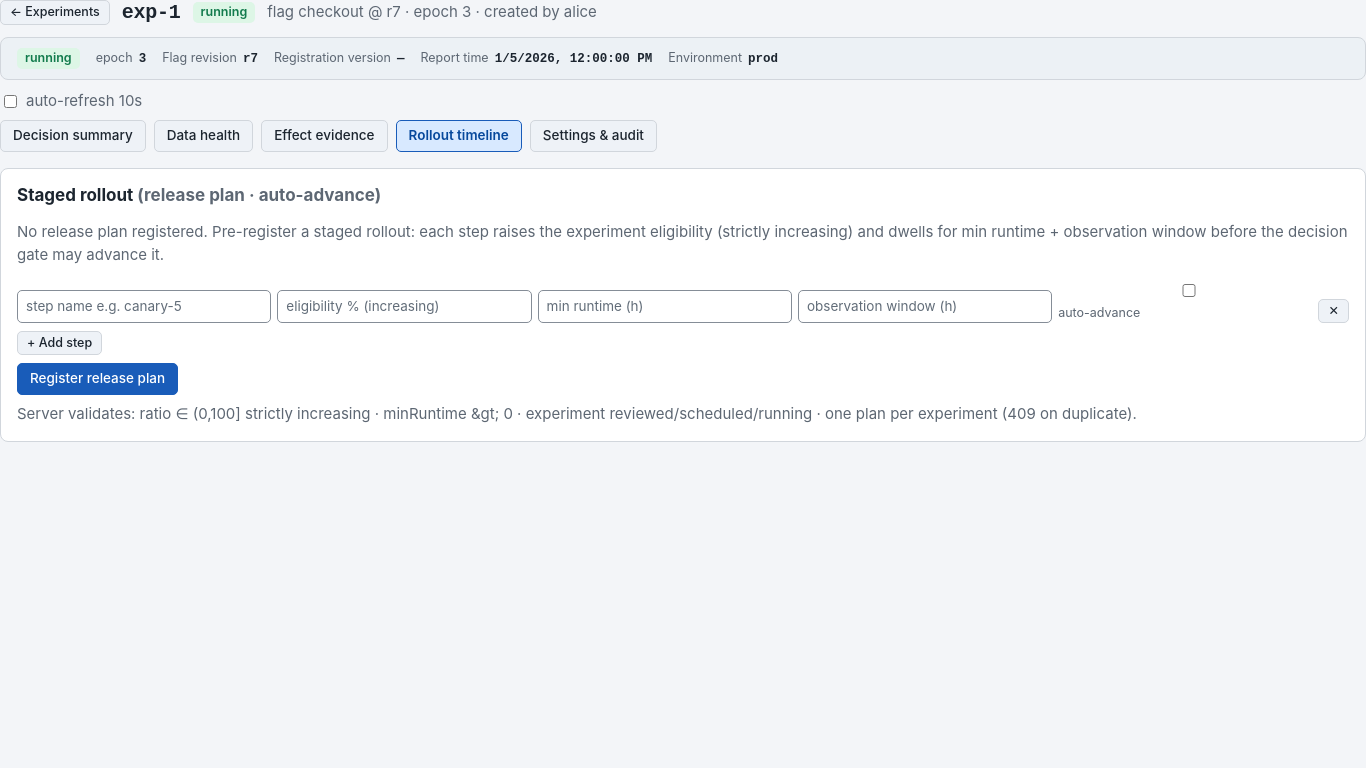
Test: RolloutBlock › renders the no-plan create editor and posts the approval-wrapped create body
Expected: the text "No release plan registered" is shown, [17, 222, 1348, 264]
Expected: the element showing "auto-advance ✕" is shown, [17, 281, 1349, 323]
# Fill the single step row, then register.
Type "canary" into the field labelled "step name" at (144, 306), box [17, 290, 271, 323]
Type "5" into the number field named "Eligibility (%)" at (404, 306), box [277, 290, 532, 323]
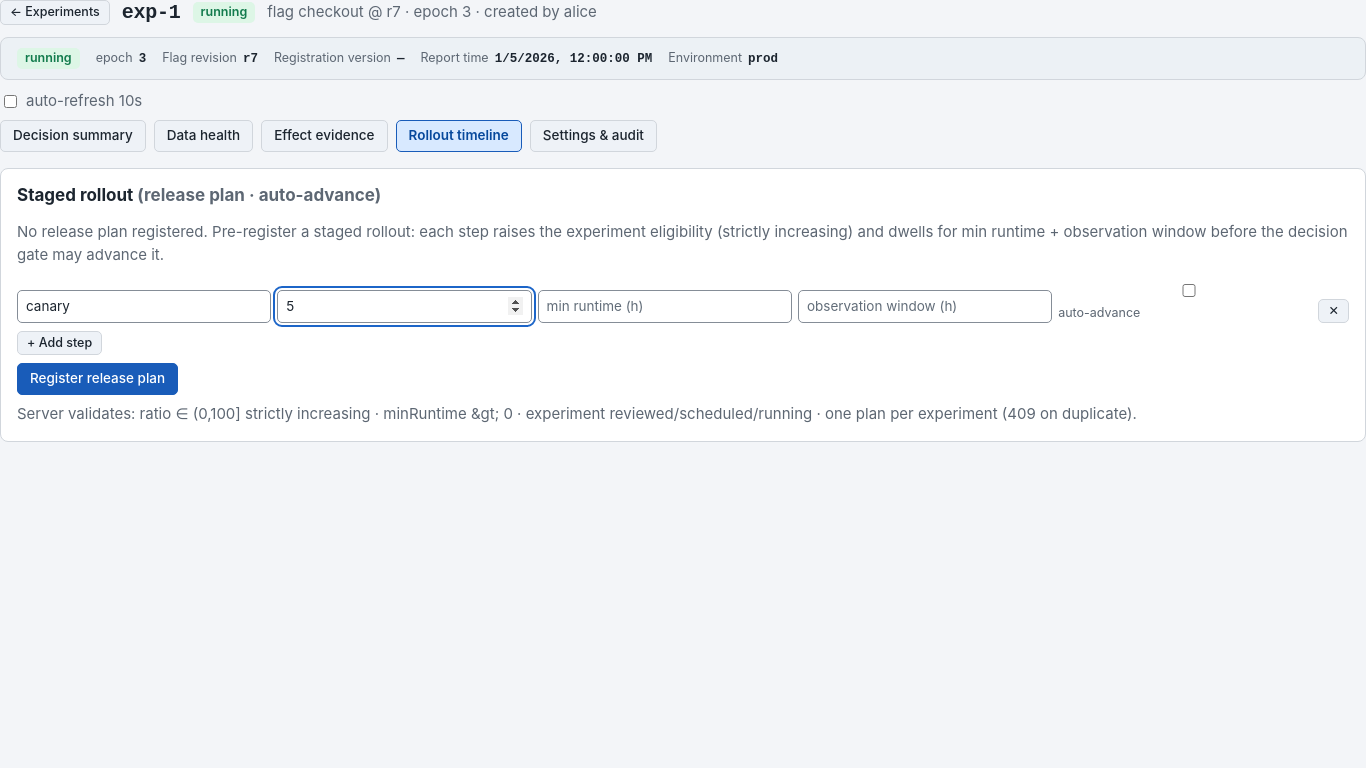
Type "2" into the number field named "Min runtime (hours)" at (665, 306), box [538, 290, 792, 323]
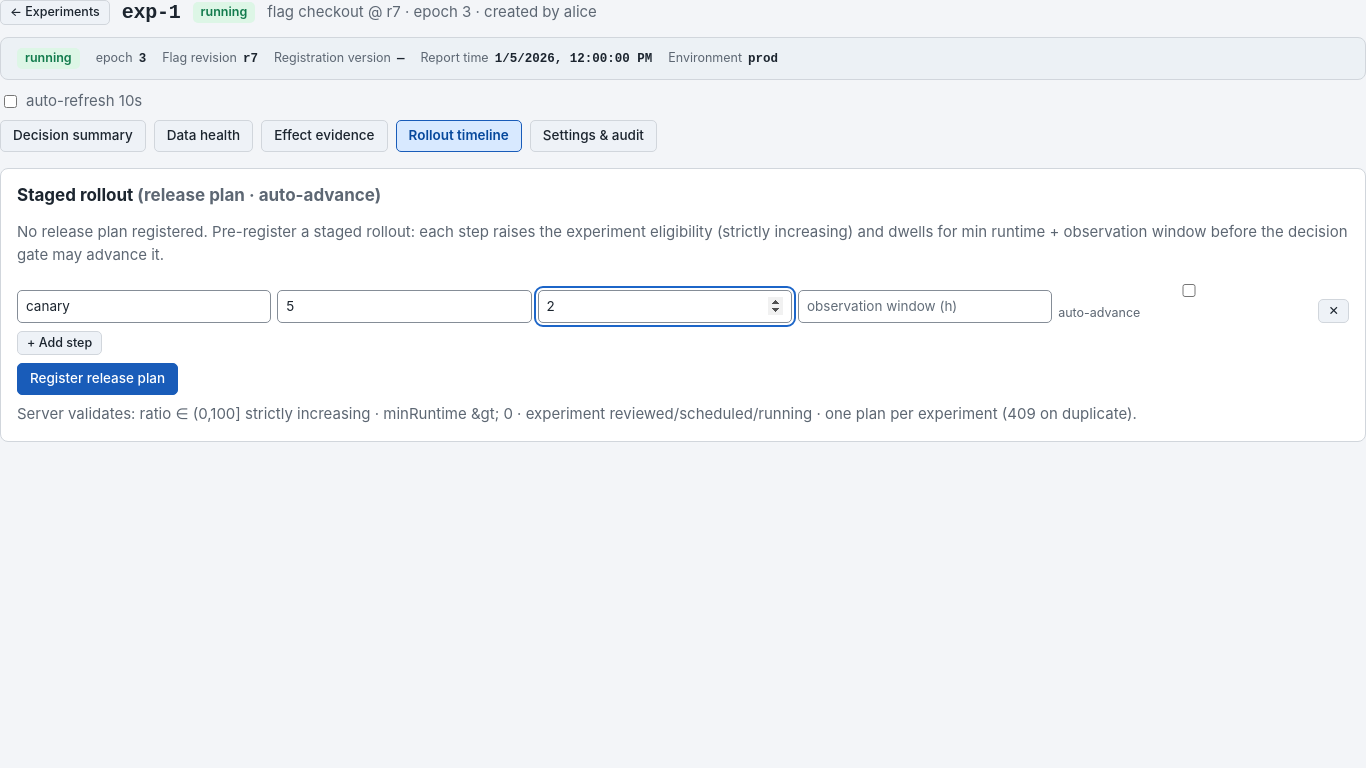
Type "1" into the number field named "Observation window (hours)" at (925, 306), box [798, 290, 1052, 323]
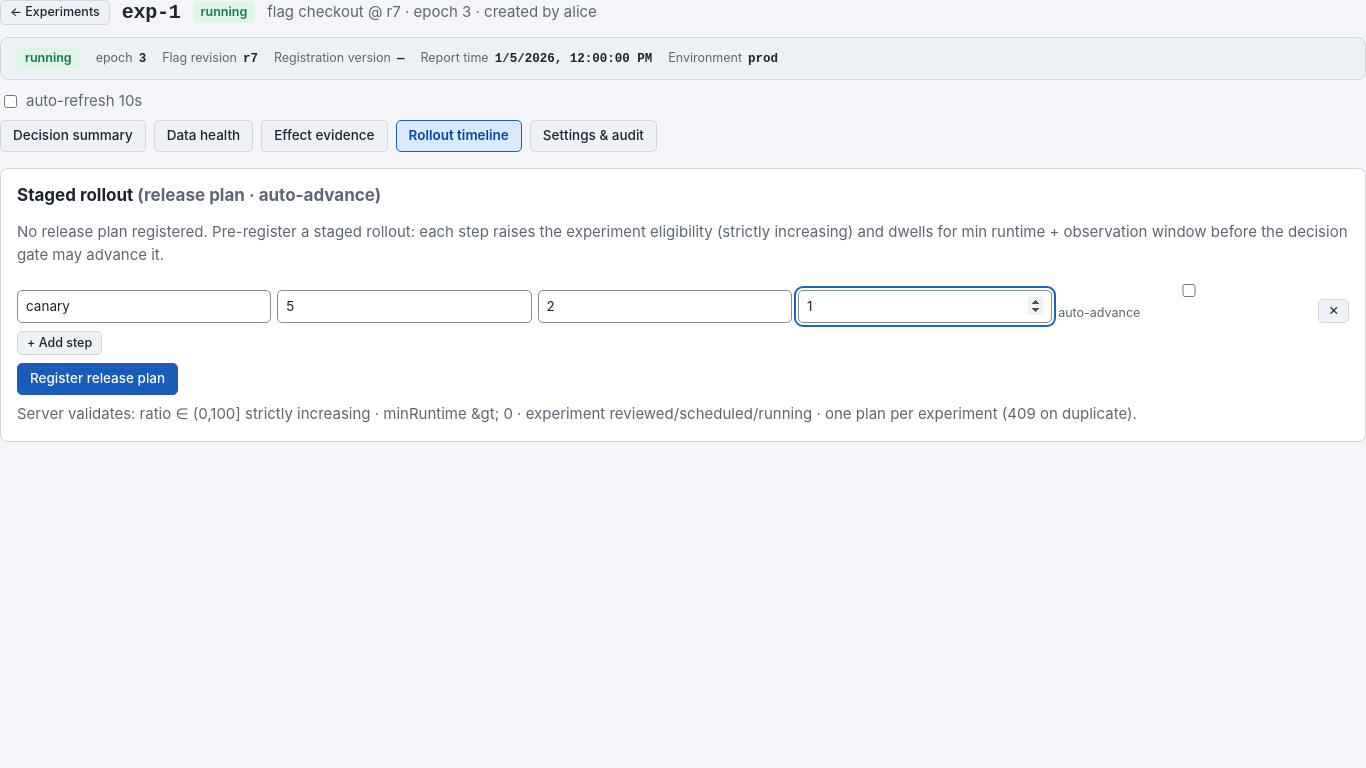
Click the checkbox labelled "auto-advance" at (1189, 291), box [1062, 284, 1316, 297]
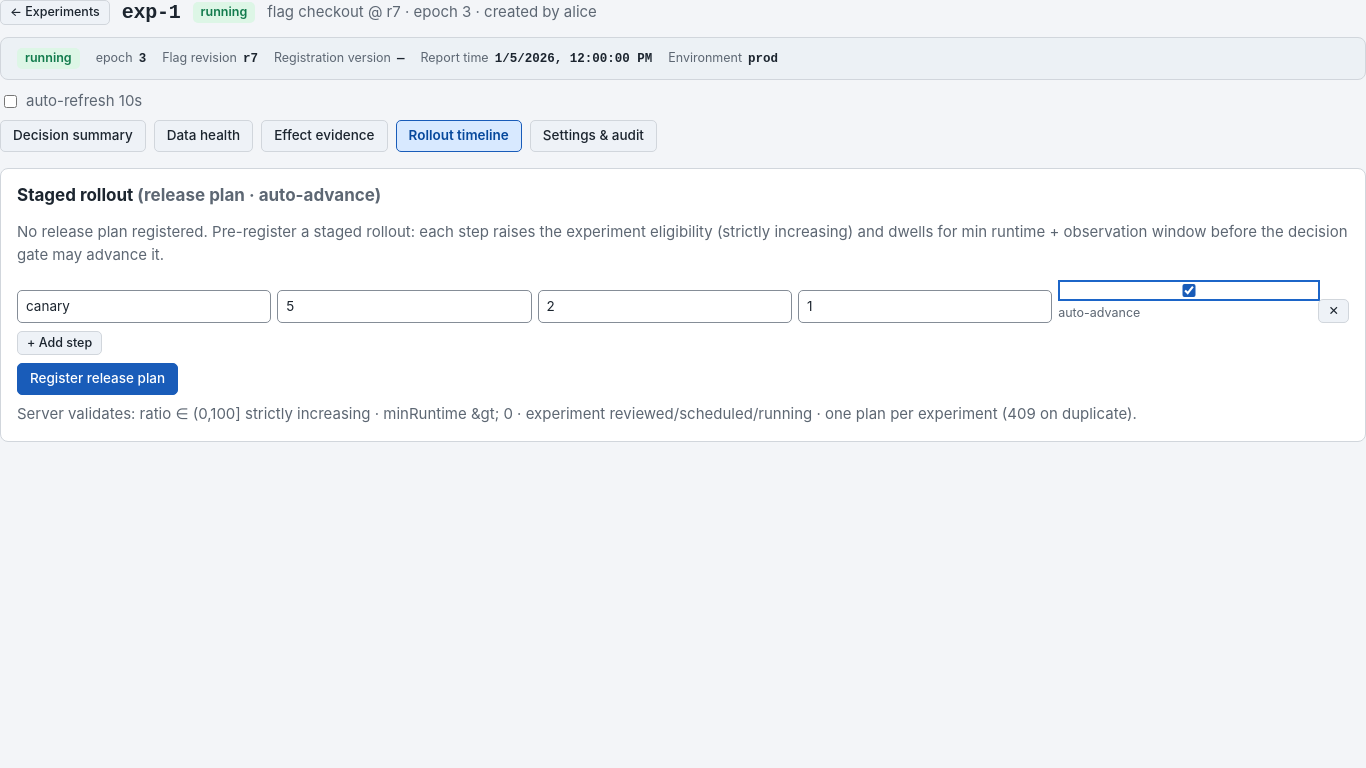
Click the button "Register release plan" at (98, 379), box [17, 363, 178, 395]
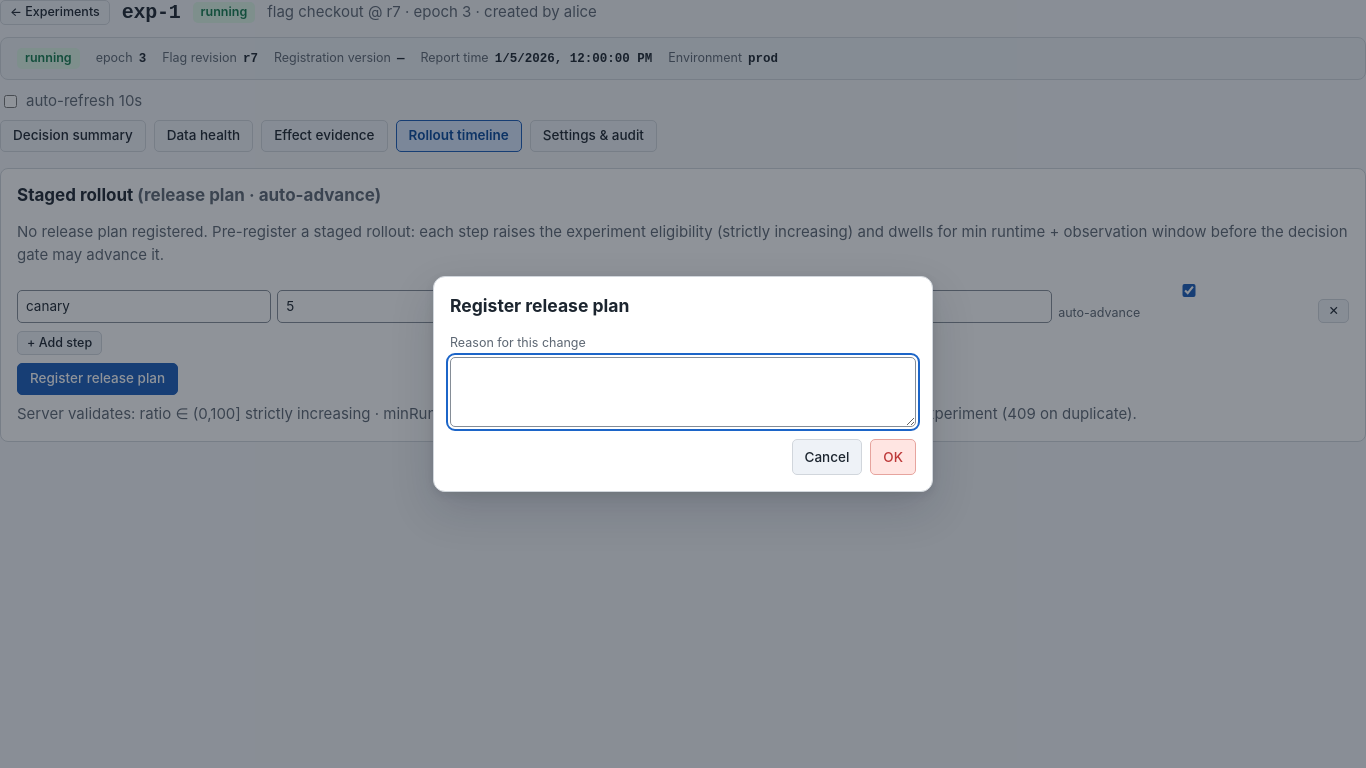
Now the text "Reason for this change" is shown, box [450, 335, 586, 350]
Type "roll it" into the text box labelled "Reason for this change" at (683, 392), box [450, 357, 916, 427]
Click the button "OK" at (893, 457), box [870, 439, 916, 475]
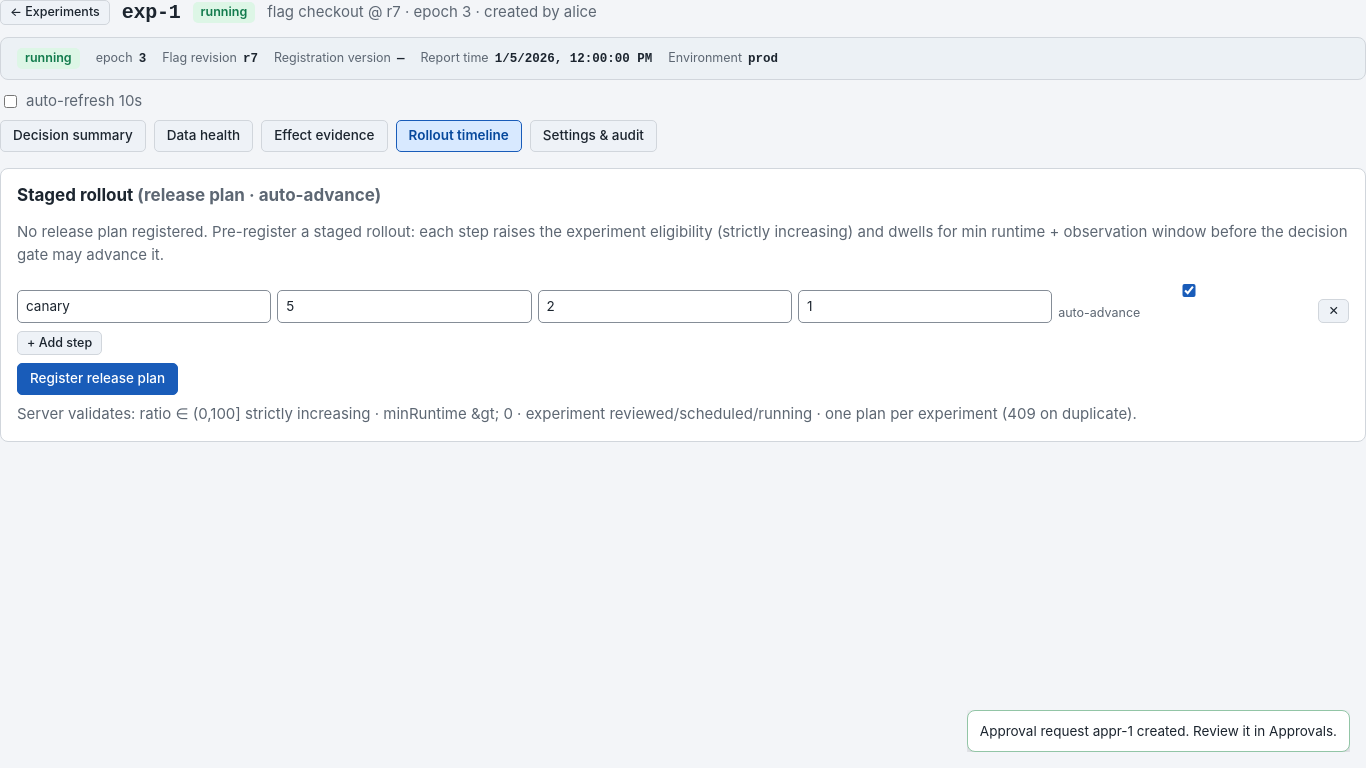
Now the text "Approval request appr-1 created. Review it in Approvals." is shown, box [967, 710, 1350, 752]
